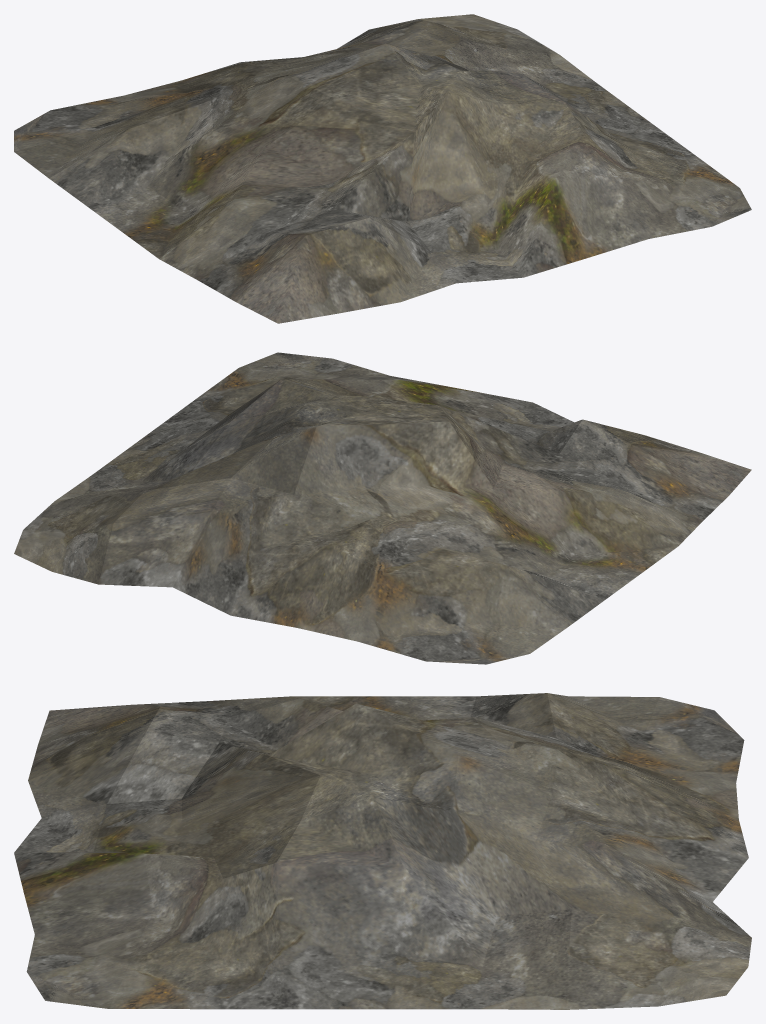
The model's file is wreckage_2.gltf.
The picture shows the model from 3 angles, top to bottom: view 1: azimuth 30°, elevation 25°; view 2: azimuth 150°, elevation 25°; view 3: azimuth 270°, elevation 25°; orthographic projection. The views are drawn at different scales.
Visible parts, largest first — view 1: wreckage_2; view 2: wreckage_2; view 3: wreckage_2.
Part boxes in pixels (box(x1,y1,x2,y2)): wreckage_2: box(14, 14, 751, 323); wreckage_2: box(14, 352, 751, 664); wreckage_2: box(14, 693, 751, 1009).
Size of the model in its own units: 20.05 by 3.6 by 19.94.
Materials: 1 (1 with a texture image).
